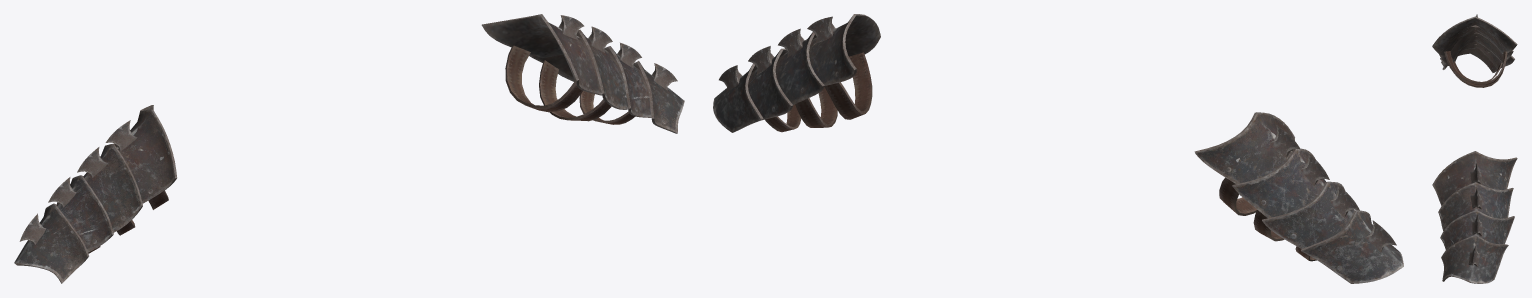
Rendered from sk_dg_uruk_bracer_elite_c.fbx.
3 views of the same model, side by side, from view 1: azimuth 30°, elevation 25°; view 2: azimuth 150°, elevation 25°; view 3: azimuth 270°, elevation 25° (orthographic). The views are drawn at different scales.
Parts seen in each view (by area): view 1: sk_dg_uruk_bracer_elite_c; view 2: sk_dg_uruk_bracer_elite_c; view 3: sk_dg_uruk_bracer_elite_c.
Part boxes in pixels (x1,y1,x2,y2): sk_dg_uruk_bracer_elite_c: [14, 14, 684, 283]; sk_dg_uruk_bracer_elite_c: [713, 14, 1403, 283]; sk_dg_uruk_bracer_elite_c: [1432, 14, 1517, 283].
Bounding box in the file's own units: 1.48 × 0.2322 × 0.2781.
Materials: 1 (1 with a texture image).
